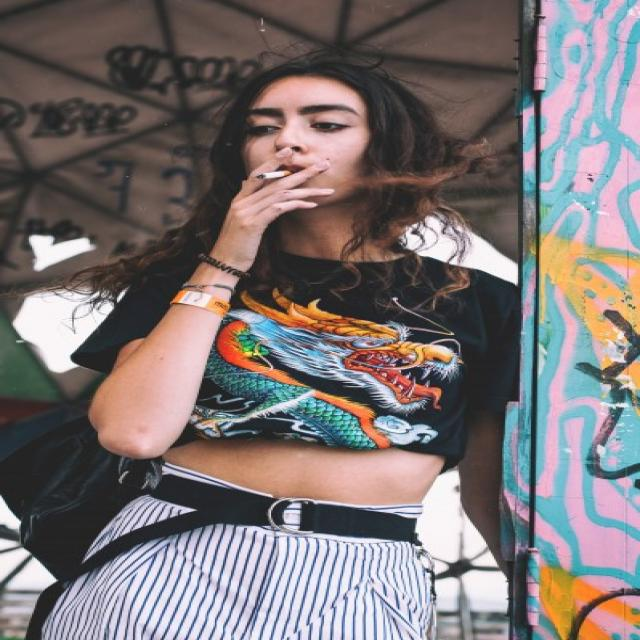smoking: (246, 161, 306, 191)
